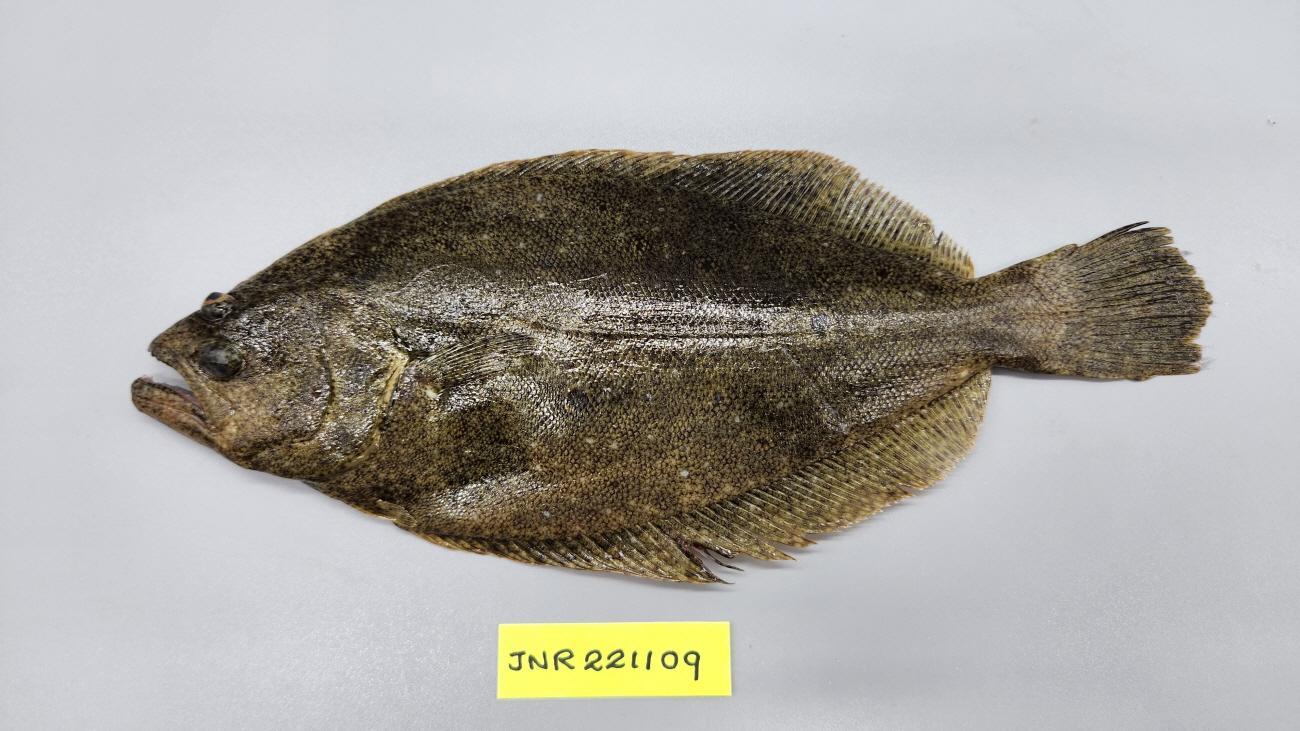POOUN: (130, 149, 1215, 585)
